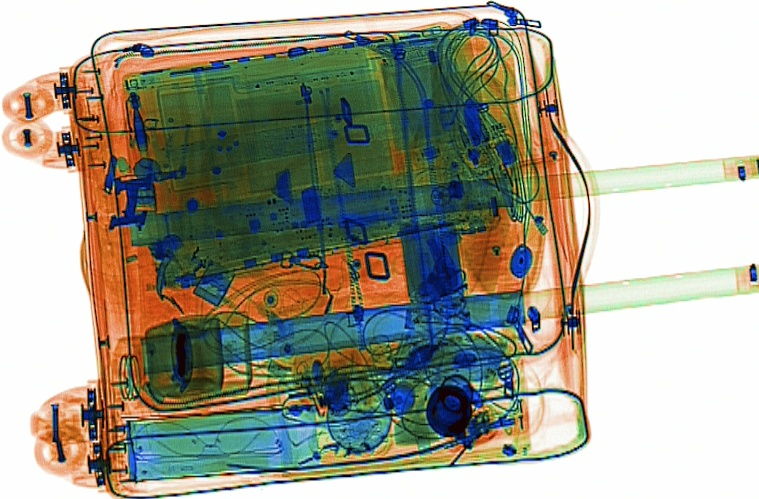powerbank: (396, 218, 470, 328)
